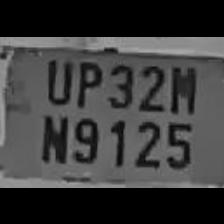1: (103, 110, 130, 168)
2: (128, 112, 160, 170), (134, 55, 166, 108)
3: (103, 54, 135, 106)
5: (160, 116, 192, 169)
9: (68, 112, 99, 164)
M: (166, 56, 196, 112)
N: (36, 107, 68, 164)
P: (74, 54, 102, 106)
U: (40, 53, 72, 106)
